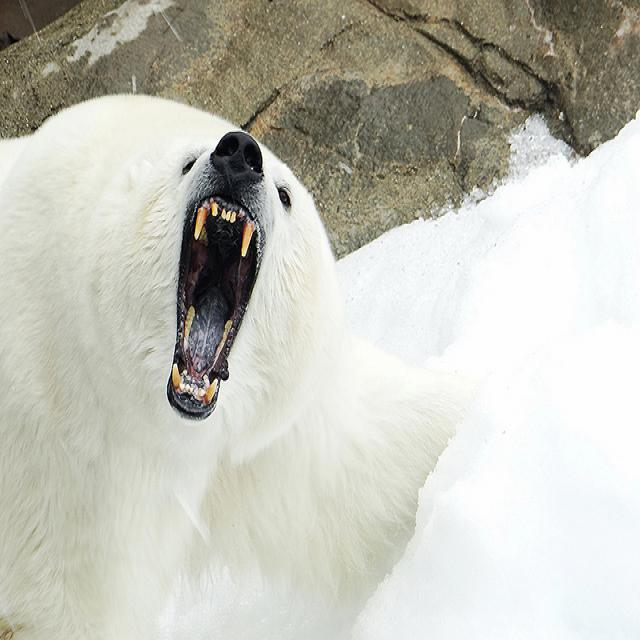Bear: (0, 91, 453, 639)
